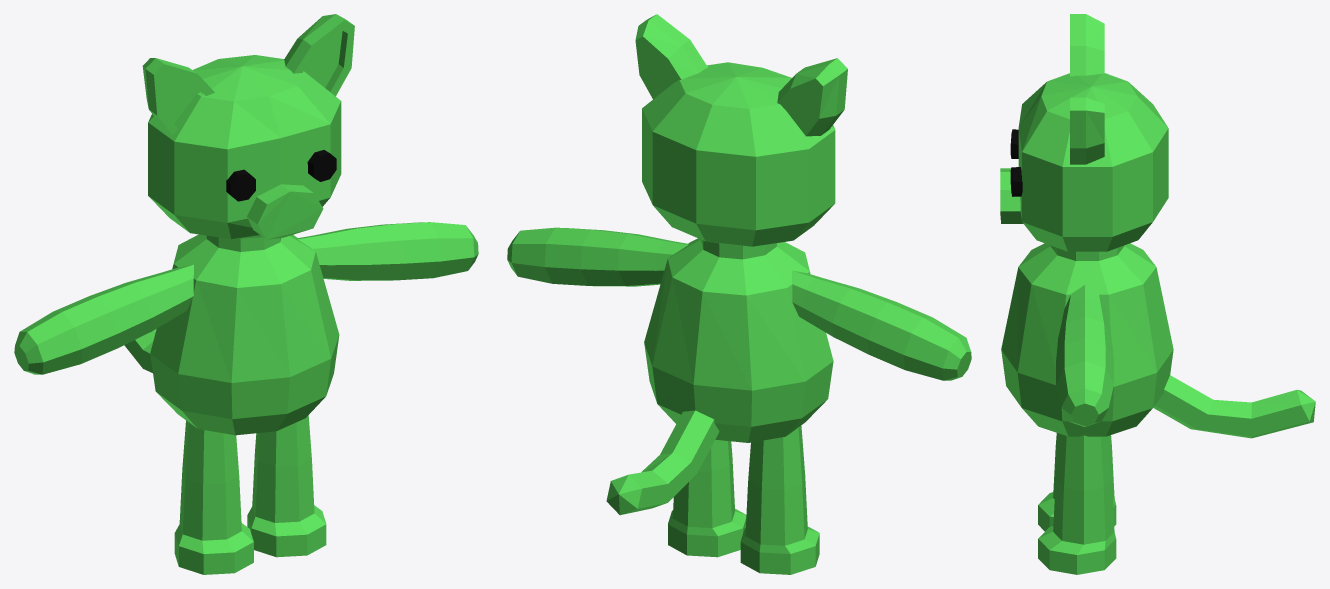
Rendered from Stuffed_Cat.fbx.
3 renders of one model, left to right at view 1: azimuth 30°, elevation 25°; view 2: azimuth 150°, elevation 25°; view 3: azimuth 270°, elevation 25°, orthographic. The views are drawn at different scales.
Visible parts, largest first — view 1: Stuffed_Cat; view 2: Stuffed_Cat; view 3: Stuffed_Cat.
Part boxes in pixels (x1,y1,x2,y2): Stuffed_Cat: [14, 14, 478, 574]; Stuffed_Cat: [507, 14, 971, 574]; Stuffed_Cat: [1000, 14, 1315, 574].
Size of the model in its own units: 31.43 by 19.87 by 33.74.
